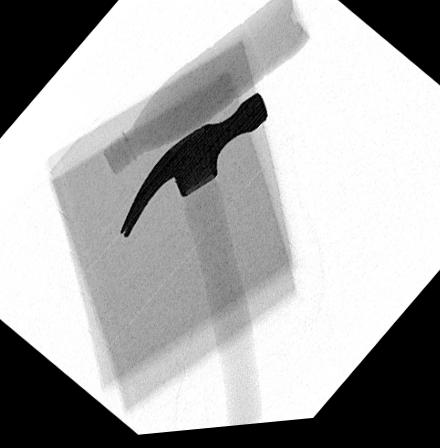Hammer: (117, 94, 269, 431)
